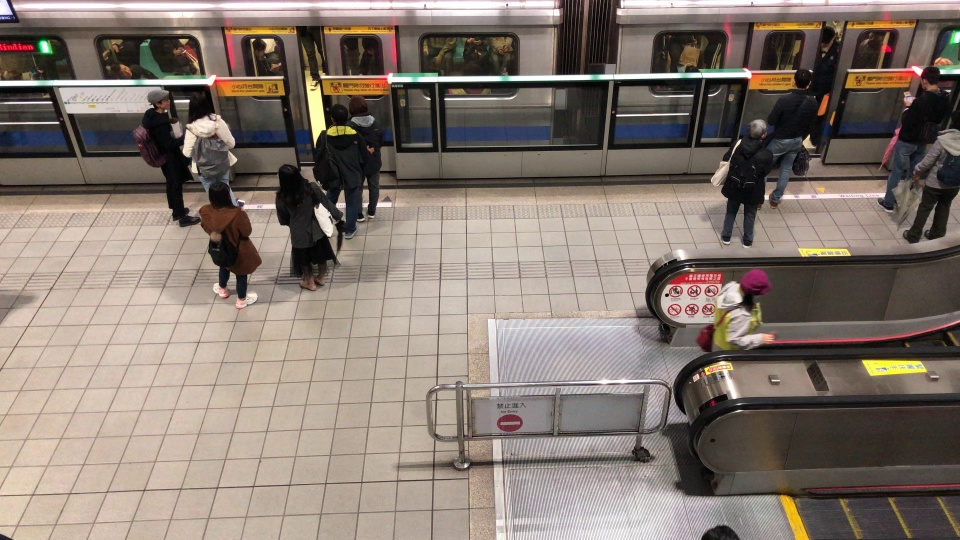person_head: (734, 263, 772, 304), (685, 520, 740, 540), (269, 160, 306, 189), (187, 89, 216, 125), (785, 66, 816, 98), (734, 117, 771, 142), (140, 86, 172, 114), (318, 97, 347, 127), (206, 177, 231, 211), (346, 97, 372, 122), (938, 114, 959, 142), (921, 64, 941, 92)
person_vbox: (866, 113, 960, 244), (881, 61, 956, 219), (696, 116, 778, 252), (184, 173, 265, 305), (760, 61, 828, 217), (126, 85, 197, 227), (693, 258, 782, 367), (266, 158, 338, 291), (174, 88, 243, 202), (304, 95, 359, 230), (343, 91, 385, 226)
